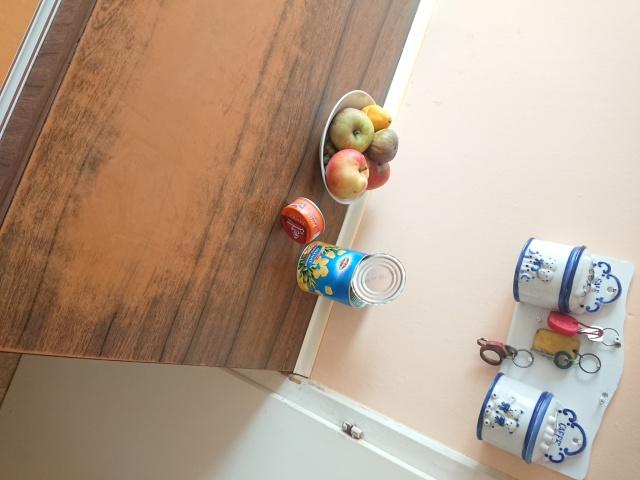Gavrilovic Pork Liver Pate 100g: (277, 194, 326, 245)
